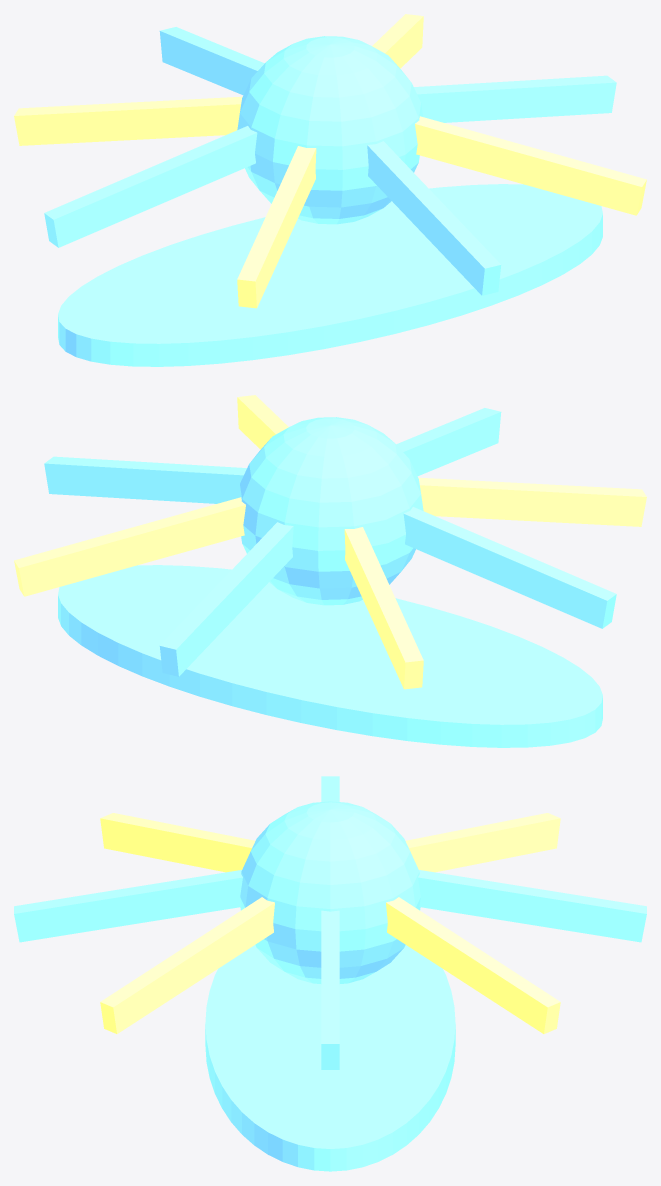
File: arcane_impact.glb
3 renders of one model, top to bottom at view 1: azimuth 30°, elevation 25°; view 2: azimuth 150°, elevation 25°; view 3: azimuth 270°, elevation 25°, orthographic. The views are drawn at different scales.
Visible parts, largest first — view 1: arcane impact ring, arcane impact core, arcane fork 7, arcane fork 4, arcane fork 3, arcane fork 0, arcane fork 6, arcane fork 5, arcane fork 2, arcane fork 1; view 2: arcane impact ring, arcane impact core, arcane fork 1, arcane fork 4, arcane fork 5, arcane fork 0, arcane fork 2, arcane fork 3, arcane fork 6, arcane fork 7; view 3: arcane impact ring, arcane impact core, arcane fork 2, arcane fork 6, arcane fork 1, arcane fork 7, arcane fork 3, arcane fork 5, arcane fork 0.
Boxes of the visible parts, bbox=[...] form: arcane impact ring: bbox=[58, 184, 602, 366]; arcane impact core: bbox=[237, 36, 422, 224]; arcane fork 7: bbox=[415, 116, 646, 215]; arcane fork 4: bbox=[44, 126, 257, 247]; arcane fork 3: bbox=[14, 96, 242, 145]; arcane fork 0: bbox=[414, 75, 616, 122]; arcane fork 6: bbox=[367, 141, 501, 295]; arcane fork 5: bbox=[237, 146, 316, 308]; arcane fork 2: bbox=[159, 27, 264, 95]; arcane fork 1: bbox=[372, 14, 423, 68]; arcane impact ring: bbox=[58, 565, 602, 747]; arcane impact core: bbox=[238, 417, 423, 605]; arcane fork 1: bbox=[14, 497, 245, 596]; arcane fork 4: bbox=[403, 507, 616, 628]; arcane fork 5: bbox=[418, 477, 646, 526]; arcane fork 0: bbox=[44, 456, 246, 503]; arcane fork 2: bbox=[159, 522, 293, 676]; arcane fork 3: bbox=[344, 527, 423, 689]; arcane fork 6: bbox=[396, 408, 501, 476]; arcane fork 7: bbox=[237, 395, 288, 449]; arcane impact ring: bbox=[205, 945, 455, 1171]; arcane impact core: bbox=[240, 801, 420, 983]; arcane fork 2: bbox=[418, 870, 646, 942]; arcane fork 6: bbox=[14, 870, 242, 942]; arcane fork 1: bbox=[386, 897, 560, 1033]; arcane fork 7: bbox=[100, 897, 274, 1033]; arcane fork 3: bbox=[405, 813, 560, 872]; arcane fork 5: bbox=[100, 813, 255, 872]; arcane fork 0: bbox=[321, 910, 339, 1069].
Size of the model in its own units: 0.8928 by 0.3675 by 0.8928.
